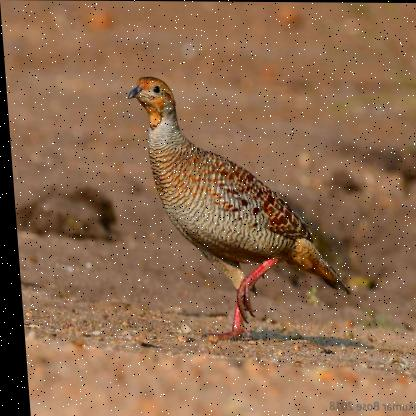Burung: (126, 75, 348, 343)
